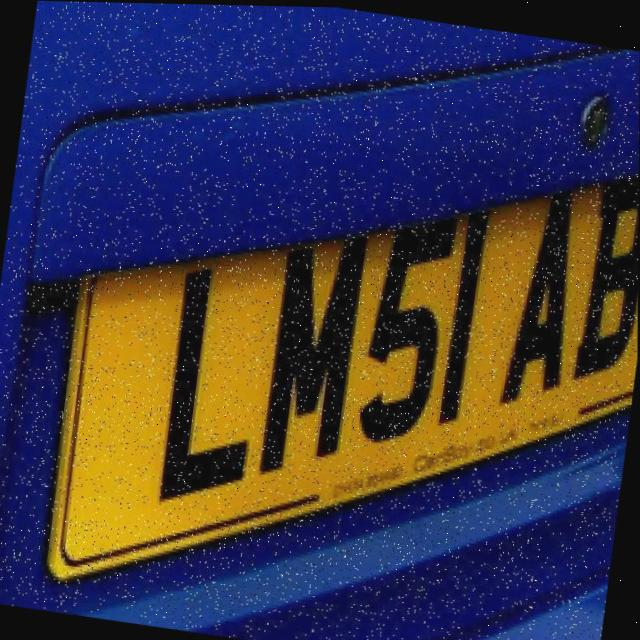LicensePlate: (36, 101, 639, 572)
